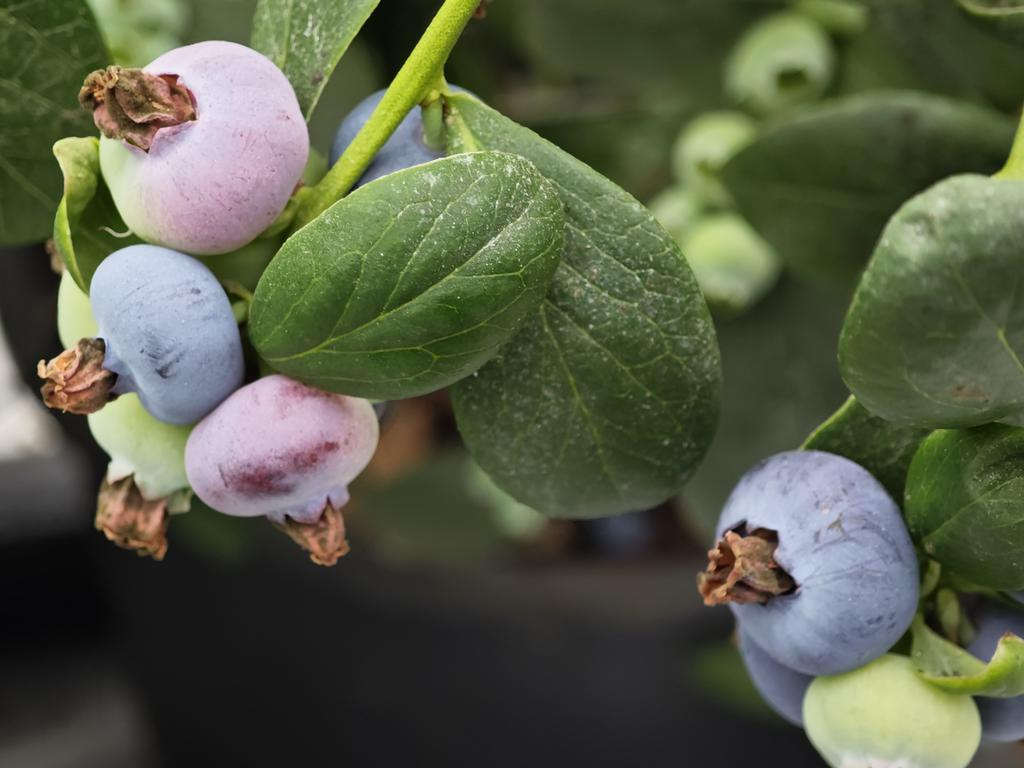RipeBlueBerry: (714, 448, 918, 677), (60, 249, 239, 421)
Semi-RipeBlueBerry: (93, 34, 310, 257), (186, 379, 383, 561)
